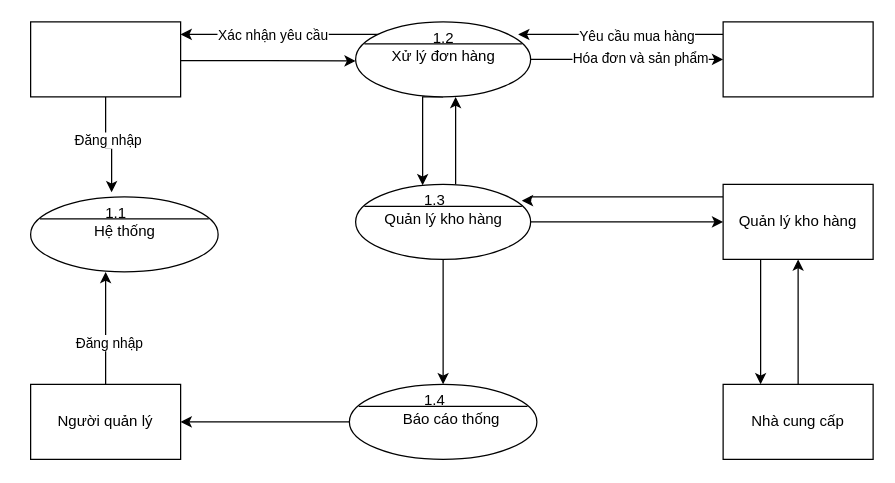
Some shapes in this 895 by 483 pixel diagram are drawn without their labels. Each missing label, with the centre of its shape:
"Khách hàng" goes at point 797,59.
"Nhân viên" goes at point 105,59.
